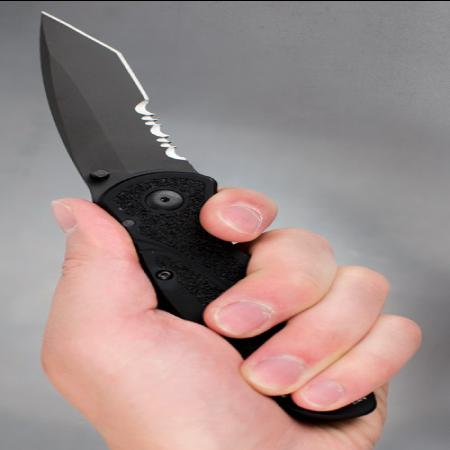long weapon: (25, 6, 300, 338)
